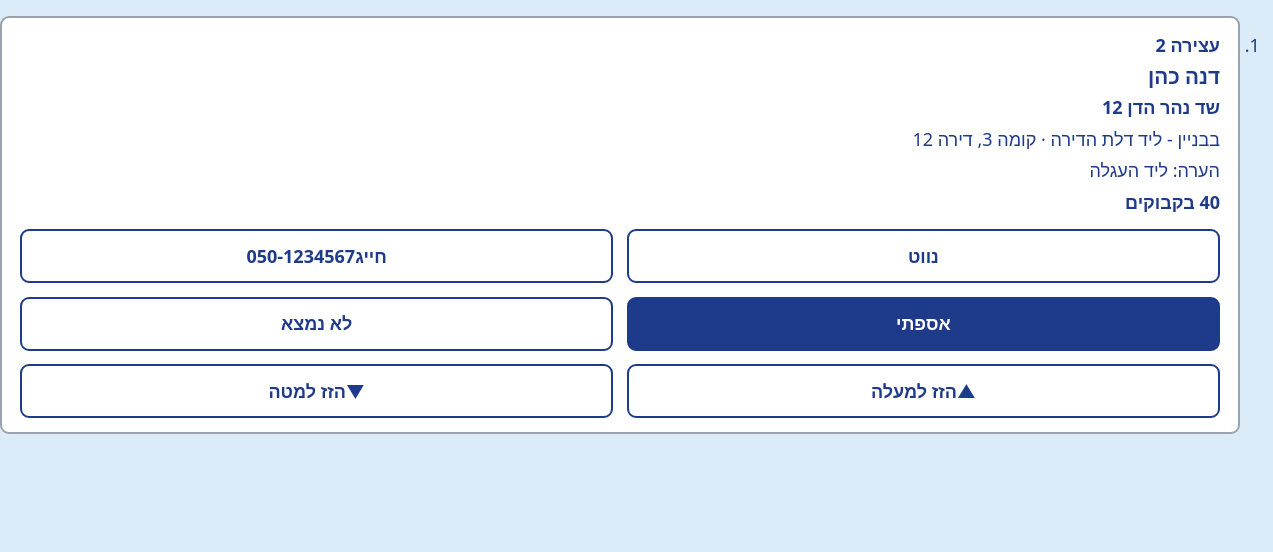
Test case: StopCard "אספתי" › opens the quantity field with the estimate, on the numeric keyboard, with the focus
What coordinates should you click on to do the following:
click the button named "אספתי, דנה כהן"
I would click on:
 (923, 324)
Its box is [627,297,1220,351].
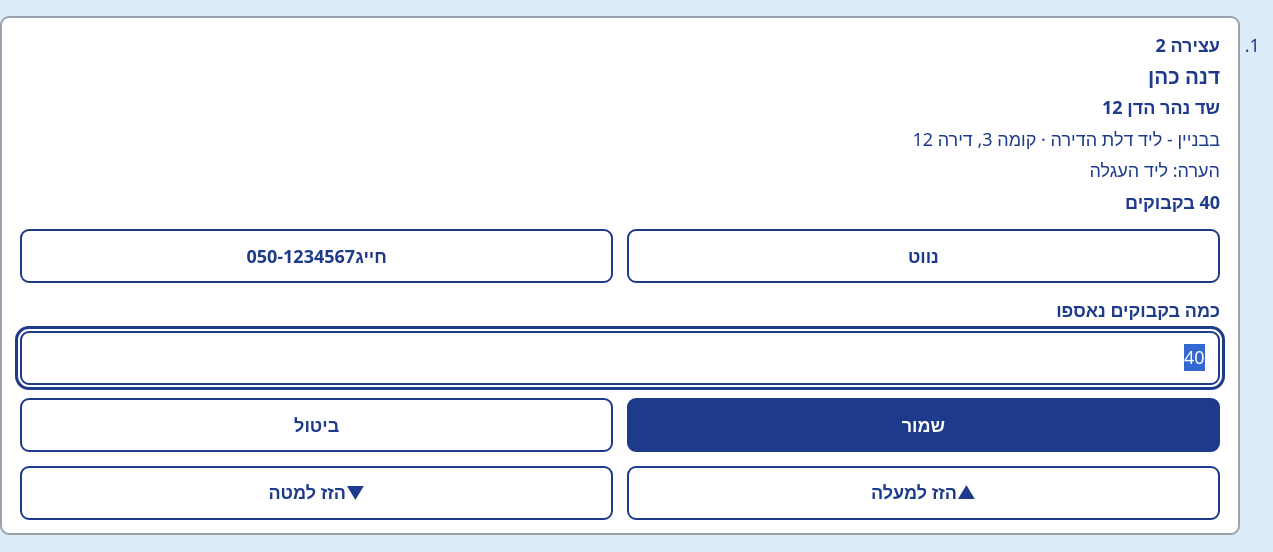
Expected: the field labelled "כמה בקבוקים נאספו" holds "40", [20,331,1220,385]
Expected: the button "אספתי" is gone
